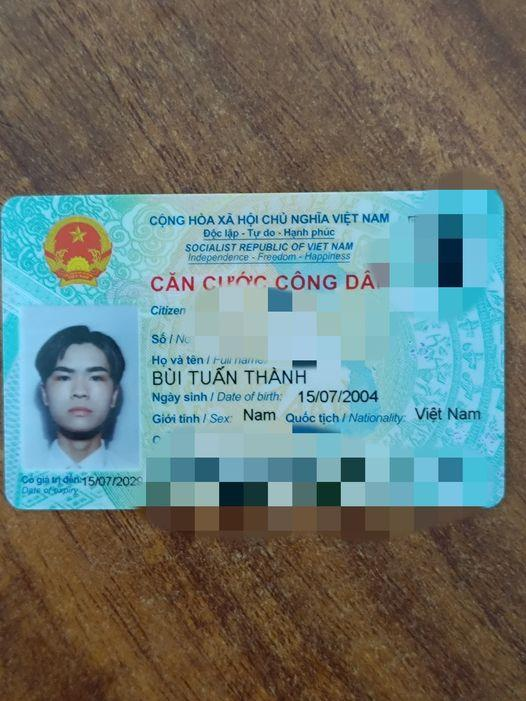bottom_left: (1, 486, 26, 514)
bottom_right: (483, 486, 513, 511)
image_person: (21, 306, 144, 467)
top_left: (0, 188, 17, 214)
top_right: (472, 176, 513, 218)
